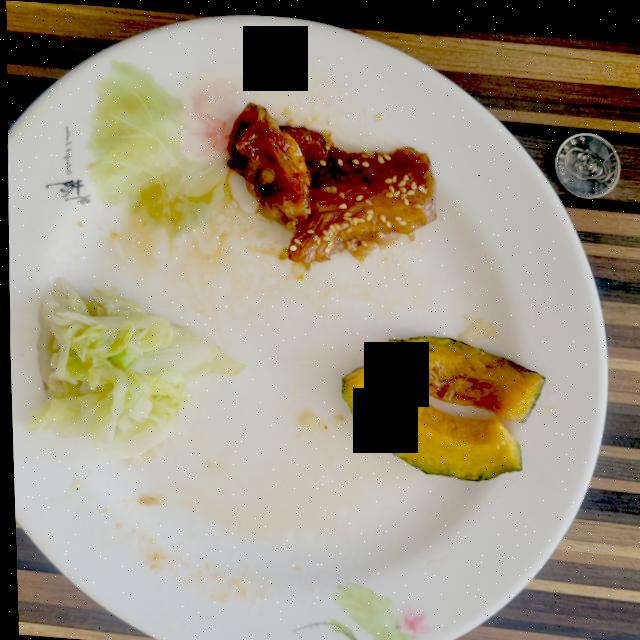Kabayaki sea bream fillet: (226, 100, 434, 261)
cabbage: (24, 277, 239, 462)
coin: (554, 125, 619, 191)
pumpkin: (340, 330, 542, 476)
